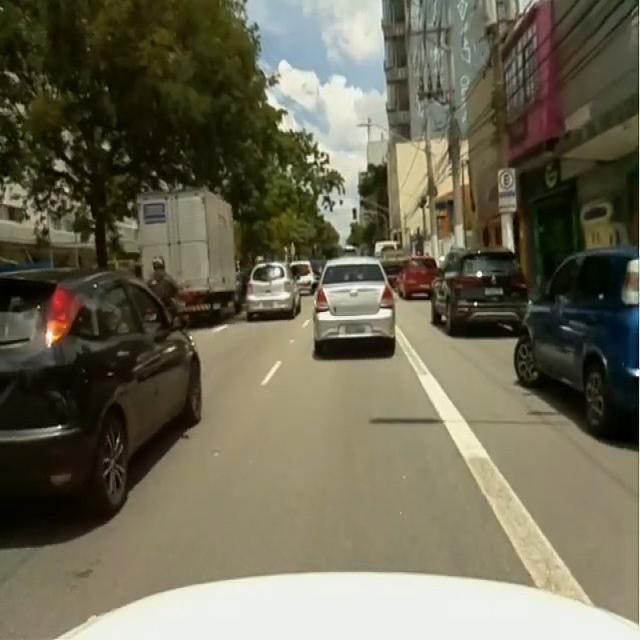car: (0, 271, 201, 512), (514, 249, 639, 435), (431, 249, 528, 334), (314, 256, 394, 354), (245, 262, 300, 319), (396, 256, 438, 298)
lorry: (138, 190, 236, 314)
